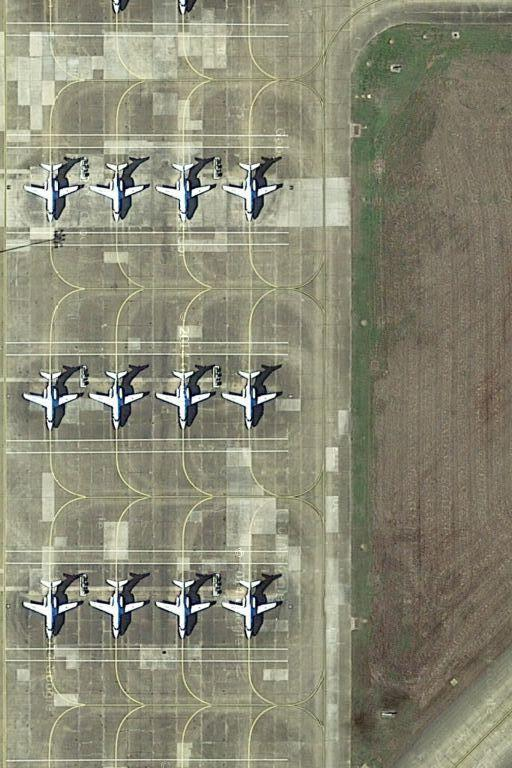plane: (153, 574, 214, 643), (23, 157, 83, 227), (87, 367, 147, 434), (21, 367, 80, 433), (23, 575, 81, 641), (157, 157, 212, 226), (155, 366, 212, 431), (88, 574, 145, 639), (223, 366, 279, 432), (224, 159, 279, 224), (223, 575, 278, 640), (94, 158, 145, 225)
